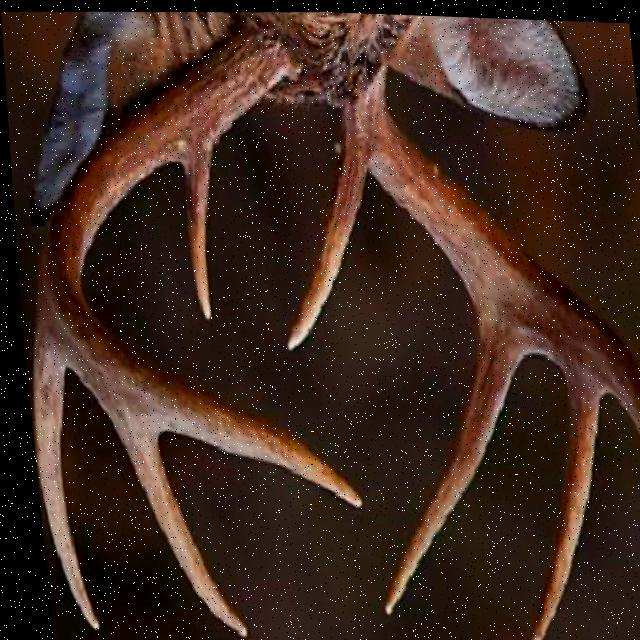L-F: (34, 18, 355, 508)
L-G1: (168, 128, 225, 320)
L-G2: (27, 299, 91, 632)
L-G3: (64, 365, 240, 638)
R-F: (340, 61, 640, 442)
R-G1: (280, 134, 368, 348)
R-G2: (373, 305, 547, 612)
R-G3: (518, 356, 597, 640)
